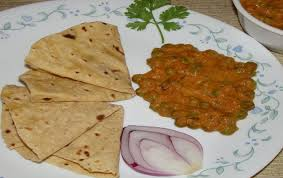curry: (139, 41, 260, 135)
roti: (1, 20, 134, 178)
